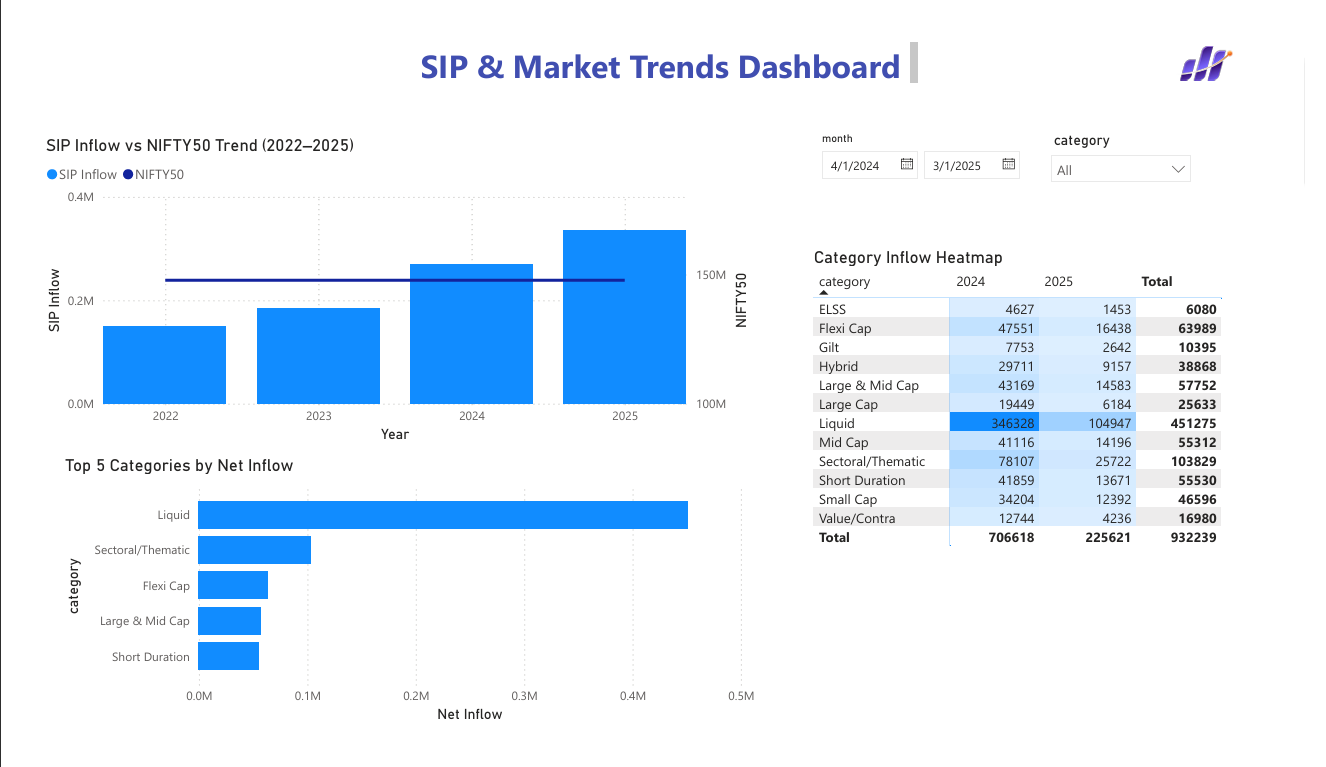

What the dashboard file says about the page in this screenshot:
{"tool":"powerbi","page":{"name":"SIP & Market Trends","canvas":[1280,720],"ordinal":3},"visuals":[{"type":"textbox","box":[380.3,14.6,518.4,52.5],"z":0},{"type":"lineClusteredColumnComboChart","title":"SIP Inflow vs NIFTY50 Trend (2022–2025)","fields":{"Y":["Sum(04_monthly_sip_inflows_clean.sip_inflow_crore)"],"Y2":["Sum(10_benchmark_indices_clean.close_value)"],"Category":["04_monthly_sip_inflows_clean.month.Variation.Date Hierarchy.Year","04_monthly_sip_inflows_clean.month.Variation.Date Hierarchy.Quarter","04_monthly_sip_inflows_clean.month.Variation.Date Hierarchy.Month","04_monthly_sip_inflows_clean.month.Variation.Date Hierarchy.Day"]},"box":[16,112,712,312],"z":1000},{"type":"pivotTable","title":"Category Inflow Heatmap","fields":{"Rows":["05_category_inflows_clean.category"],"Columns":["05_category_inflows_clean.month.Variation.Date Hierarchy.Year","05_category_inflows_clean.month.Variation.Date Hierarchy.Quarter","05_category_inflows_clean.month.Variation.Date Hierarchy.Month","05_category_inflows_clean.month.Variation.Date Hierarchy.Day"],"Values":["Sum(05_category_inflows_clean.net_inflow_crore)"]},"box":[784,224,432,304],"z":2000},{"type":"clusteredBarChart","title":"Top 5 Categories by Net Inflow","fields":{"Category":["05_category_inflows_clean.category"],"Y":["Sum(05_category_inflows_clean.net_inflow_crore)"]},"box":[35,431.9,700.3,272.3],"z":3000},{"type":"slicer","fields":{"Values":["05_category_inflows_clean.month"]},"box":[784,104,224,64],"z":4000},{"type":"slicer","fields":{"Values":["05_category_inflows_clean.category"]},"box":[1016,104,160,64],"z":5000},{"type":"image","box":[1144,16,64,48],"z":6000}]}

Visuals, with their boxes in screenshot pixels (x1, y1, x2, y2), scaled from the page's 1280x720 canvas onto the 1326x767 screenshot:
textbox: x1=394 y1=16 x2=931 y2=71
"SIP Inflow vs NIFTY50 Trend (2022–2025)" lineClusteredColumnComboChart: x1=17 y1=119 x2=754 y2=452
"Category Inflow Heatmap" pivotTable: x1=812 y1=239 x2=1260 y2=562
"Top 5 Categories by Net Inflow" clusteredBarChart: x1=36 y1=460 x2=762 y2=750
slicer - 05_category_inflows_clean.month: x1=812 y1=111 x2=1044 y2=179
slicer - 05_category_inflows_clean.category: x1=1053 y1=111 x2=1218 y2=179
image: x1=1185 y1=17 x2=1251 y2=68
